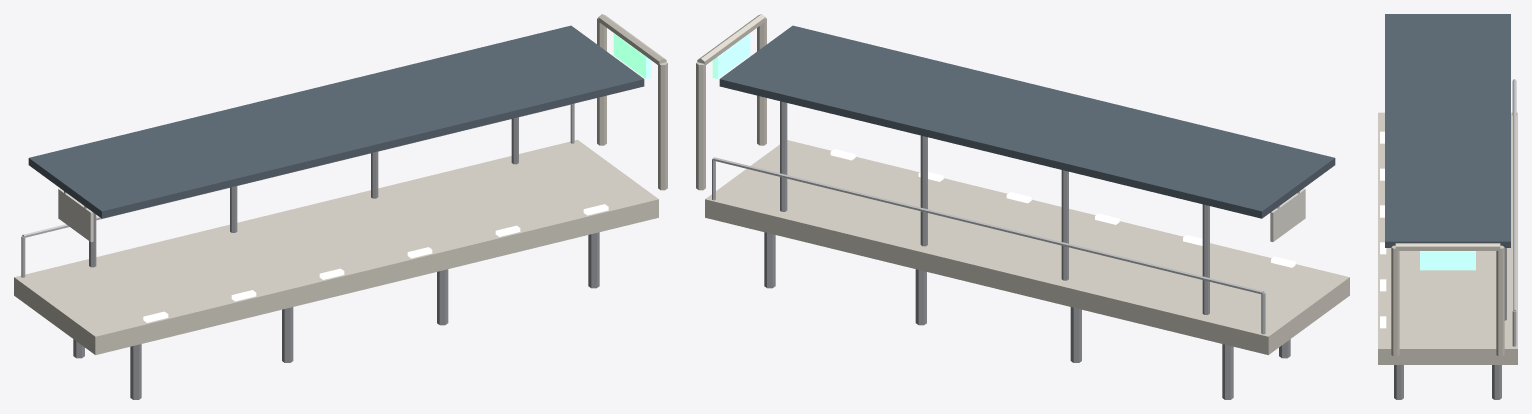
Rendered from render.glb.
3 renders of one model, left to right at view 1: azimuth 30°, elevation 25°; view 2: azimuth 150°, elevation 25°; view 3: azimuth 270°, elevation 25°, orthographic. The views are drawn at different scales.
Visible parts, largest first — view 1: deck, canopy, gpost_s, plate, rail, gsign, glintel, gpost_p, leg2b, leg3b, leg1b, leg0b; view 2: deck, canopy, rail, gpost_p, plate, gsign, cpost2, cpost0, cpost1, cpost3, glintel, gpost_s (+4 smaller); view 3: canopy, deck, gsign, gpost_p, gpost_s, rail, glintel, leg3, leg3b, cpost3.
Boxes of the visible parts, <box> form: deck: <box>14,139,658,354</box>; canopy: <box>28,25,644,218</box>; gpost_s: <box>658,62,667,190</box>; plate: <box>58,188,93,241</box>; rail: <box>21,103,574,277</box>; gsign: <box>613,33,651,78</box>; glintel: <box>598,14,666,64</box>; gpost_p: <box>597,18,606,145</box>; leg2b: <box>437,269,448,325</box>; leg3b: <box>588,232,599,288</box>; leg1b: <box>282,307,293,362</box>; leg0b: <box>130,344,141,399</box>; deck: <box>705,140,1349,354</box>; canopy: <box>719,25,1335,218</box>; rail: <box>712,157,1265,334</box>; gpost_p: <box>696,62,705,190</box>; plate: <box>1270,188,1305,241</box>; gsign: <box>712,33,750,78</box>; cpost2: <box>920,135,927,246</box>; cpost0: <box>1202,204,1209,314</box>; cpost1: <box>1061,170,1068,280</box>; cpost3: <box>780,101,787,211</box>; glintel: <box>697,14,765,64</box>; gpost_s: <box>757,18,766,145</box>; canopy: <box>1385,14,1510,247</box>; deck: <box>1378,112,1517,364</box>; gsign: <box>1420,251,1475,270</box>; gpost_p: <box>1496,245,1504,356</box>; gpost_s: <box>1391,245,1399,356</box>; rail: <box>1512,79,1516,346</box>; glintel: <box>1395,243,1500,250</box>; leg3: <box>1492,365,1501,399</box>; leg3b: <box>1394,365,1403,399</box>; cpost3: <box>1504,248,1506,320</box>.
Size of the model in its own units: 16.5 by 5.77 by 4.
